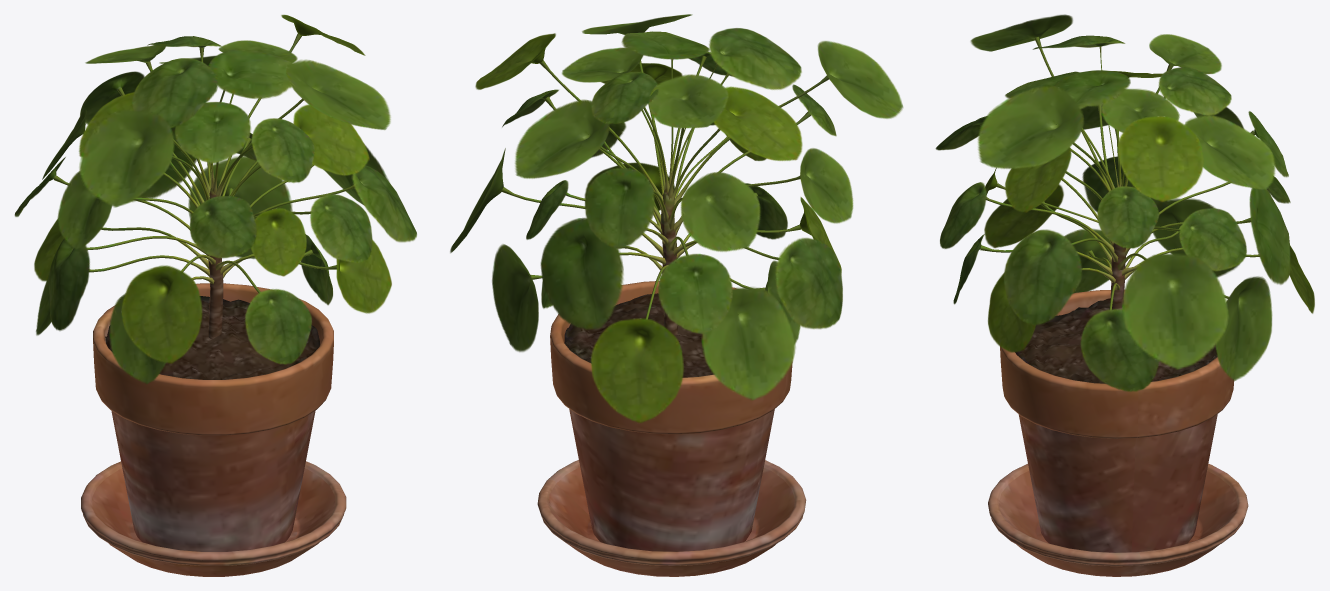
Rendered from plant-pilea.glb.
3 views of the same model, side by side, from view 1: azimuth 30°, elevation 25°; view 2: azimuth 150°, elevation 25°; view 3: azimuth 270°, elevation 25° (orthographic). The views are drawn at different scales.
Visible parts, largest first — view 1: PILEA_PEPEROMIOIDES, POT_TERRACOTTA_SMALL; view 2: PILEA_PEPEROMIOIDES, POT_TERRACOTTA_SMALL; view 3: PILEA_PEPEROMIOIDES, POT_TERRACOTTA_SMALL.
Boxes of the visible parts, <box> form: PILEA_PEPEROMIOIDES: <box>14,14,416,384</box>; POT_TERRACOTTA_SMALL: <box>81,283,346,576</box>; PILEA_PEPEROMIOIDES: <box>450,14,903,423</box>; POT_TERRACOTTA_SMALL: <box>537,281,806,576</box>; PILEA_PEPEROMIOIDES: <box>935,14,1314,391</box>; POT_TERRACOTTA_SMALL: <box>988,290,1248,576</box>.
Bounding box in the file's own units: 0.277 × 0.36 × 0.2601.
Materials: 2 (2 with a texture image).
